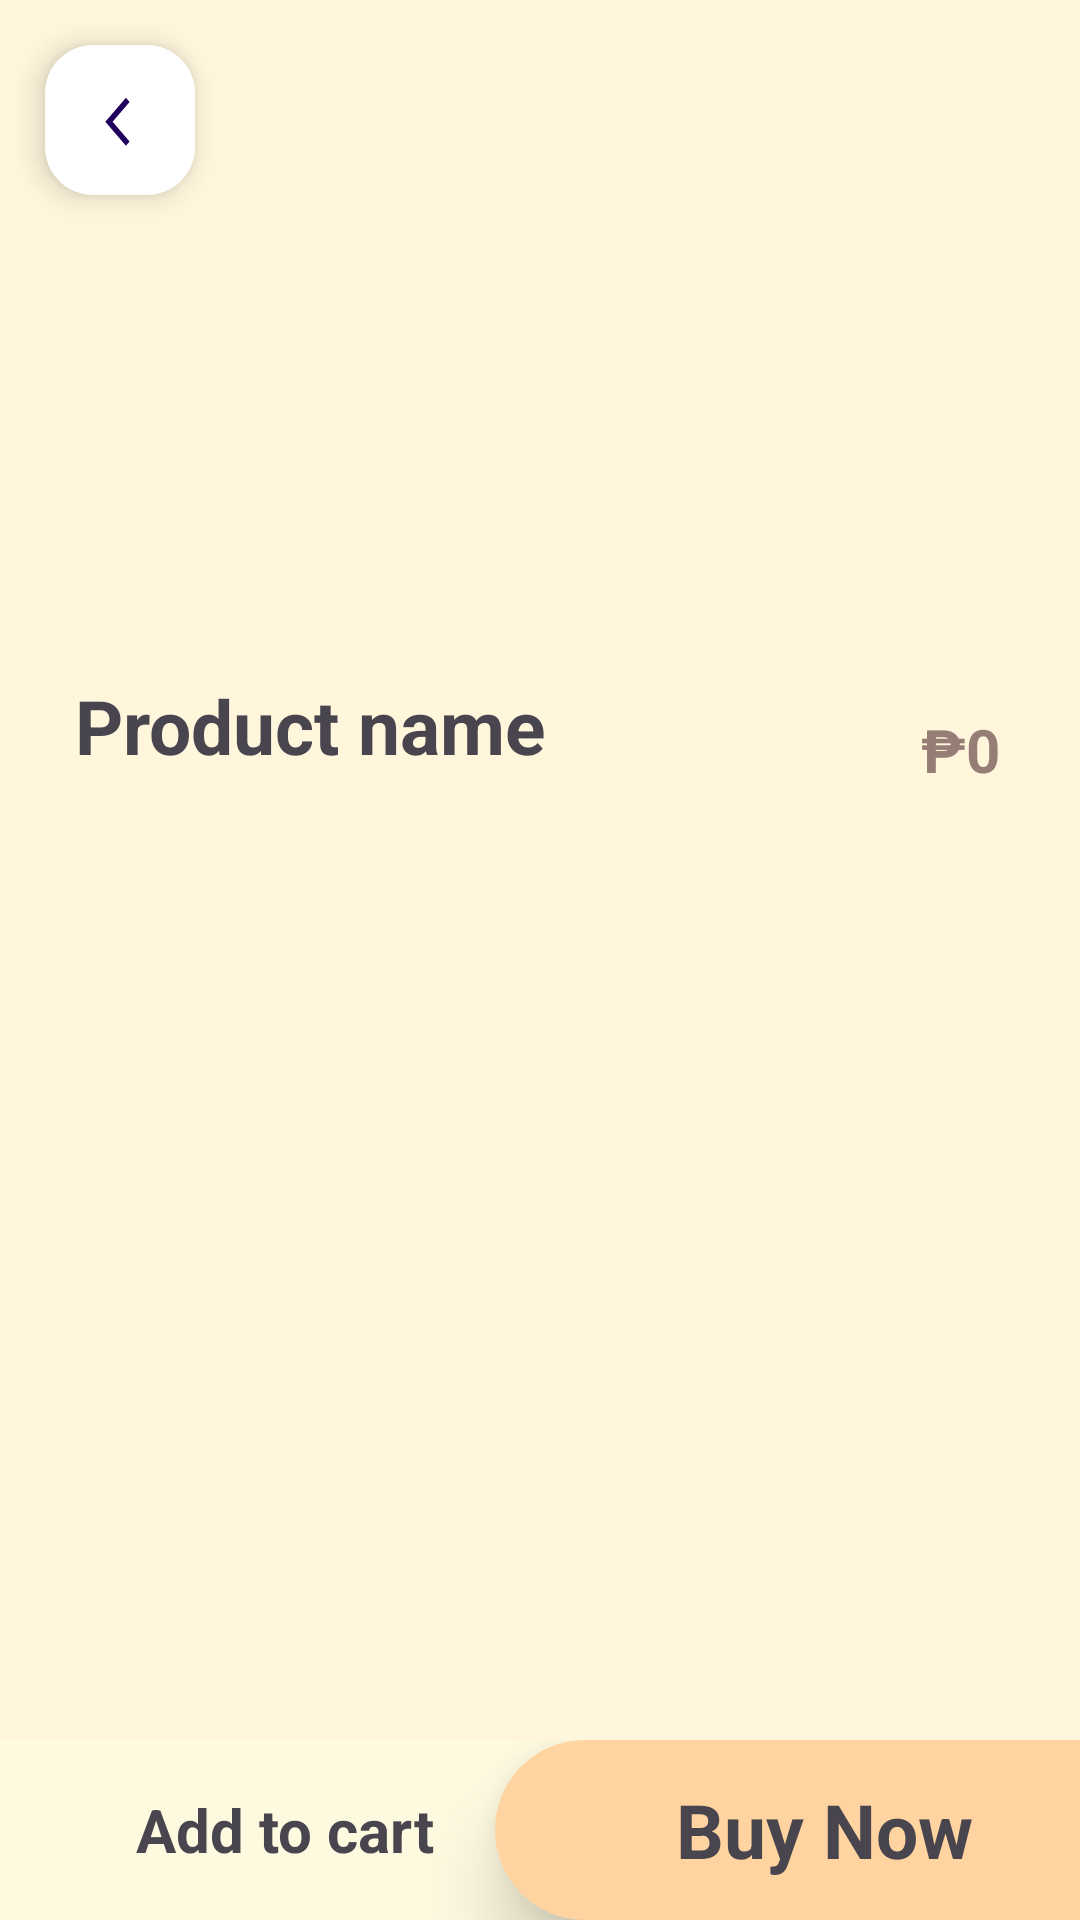

Named icons in this screenshot (1080w x 1920h) and their centers, (x=x, y=y):
arrow back: (x=120, y=120)
